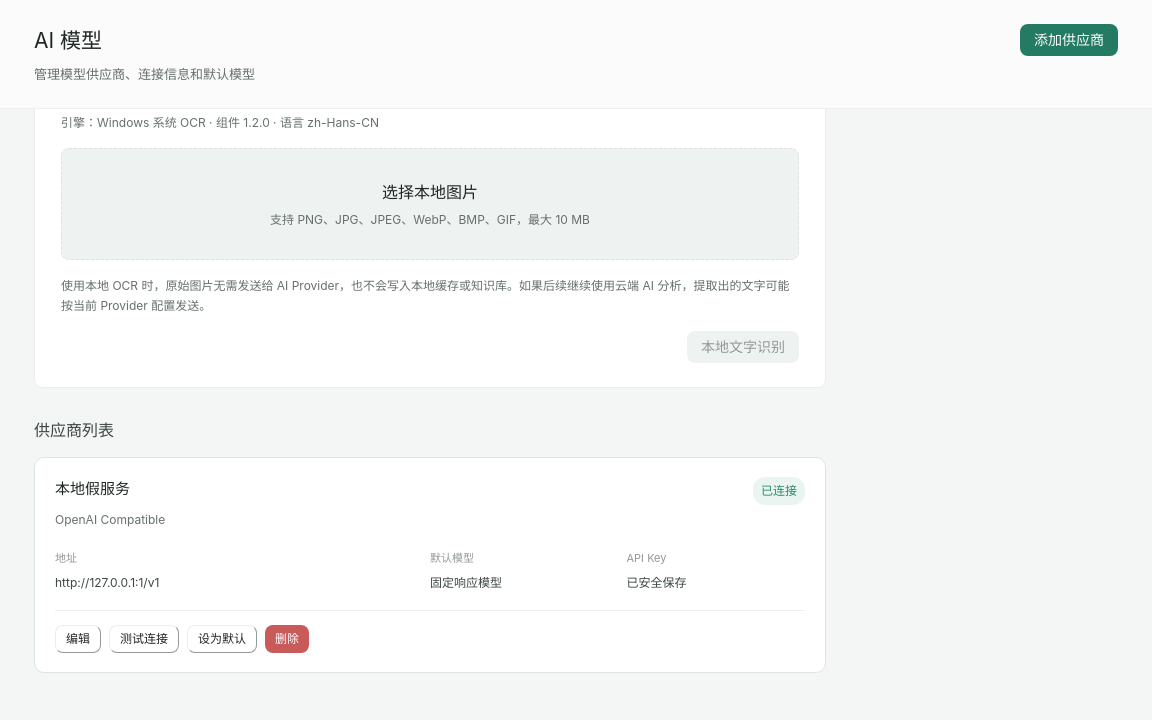
Test case: AI model settings › reveals and focuses the provider editor when editing an existing provider
(page scrolled)
Click the button "编辑".
click(78, 639)  # box [55,625,101,653]
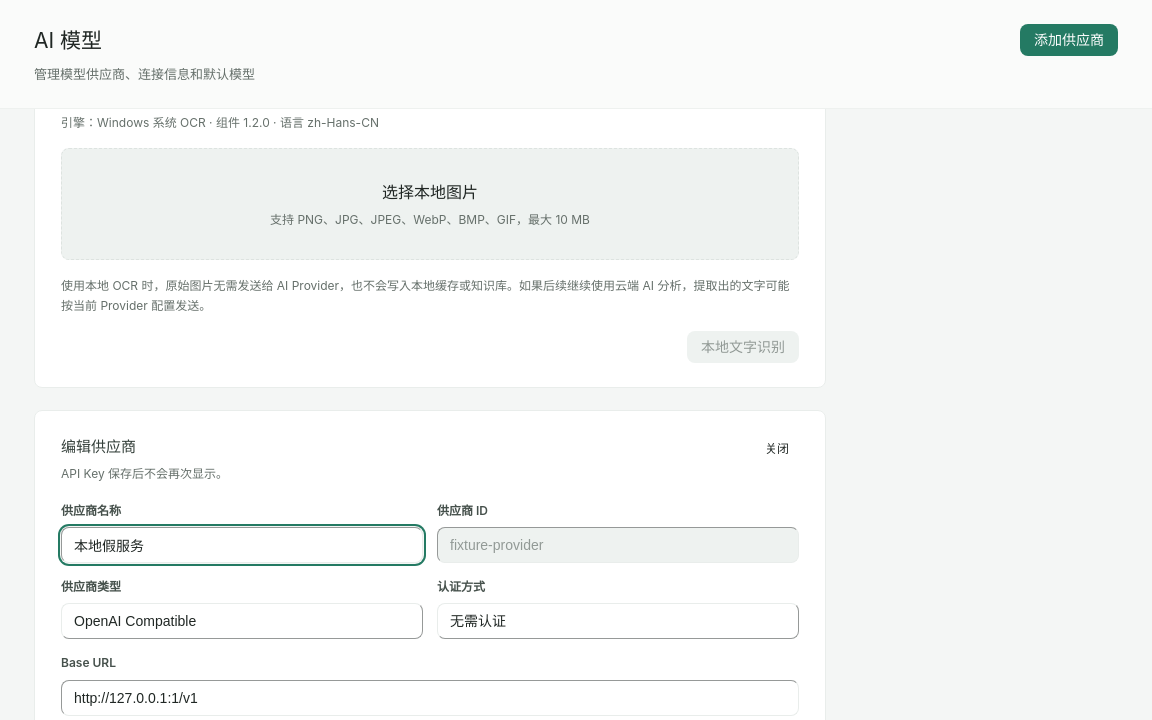
Result: the field labelled "供应商名称" holds "本地假服务" at [61,527,423,563]
